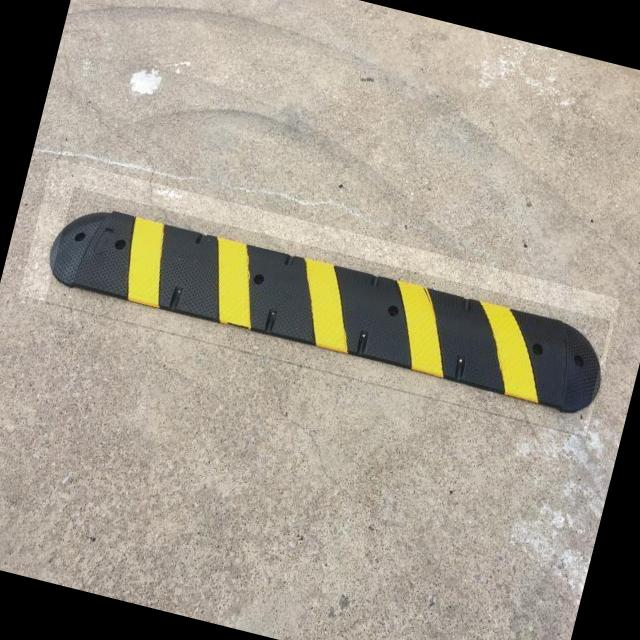bump: (44, 186, 611, 436)
